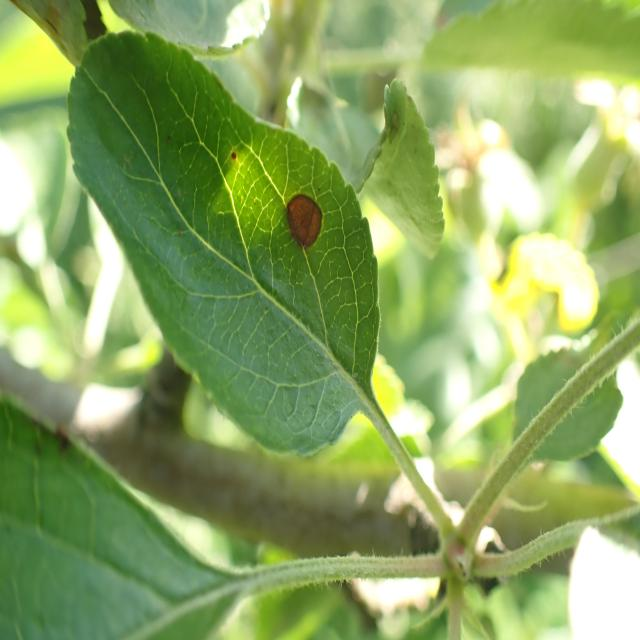Black Rot: (273, 174, 332, 276)
